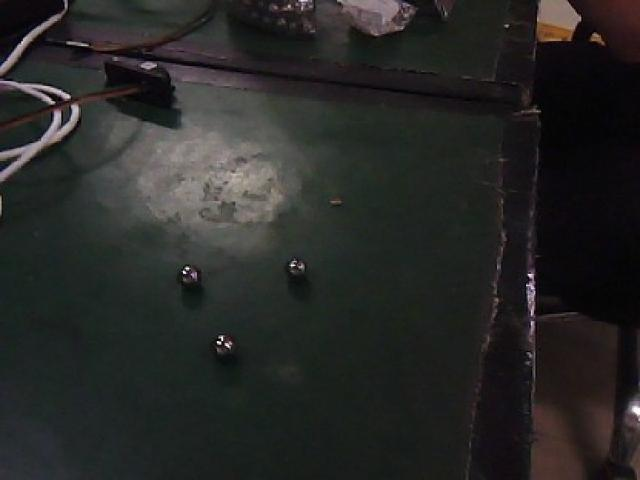steel-ball: (268, 235, 323, 297), (197, 315, 235, 374), (159, 246, 203, 289)
